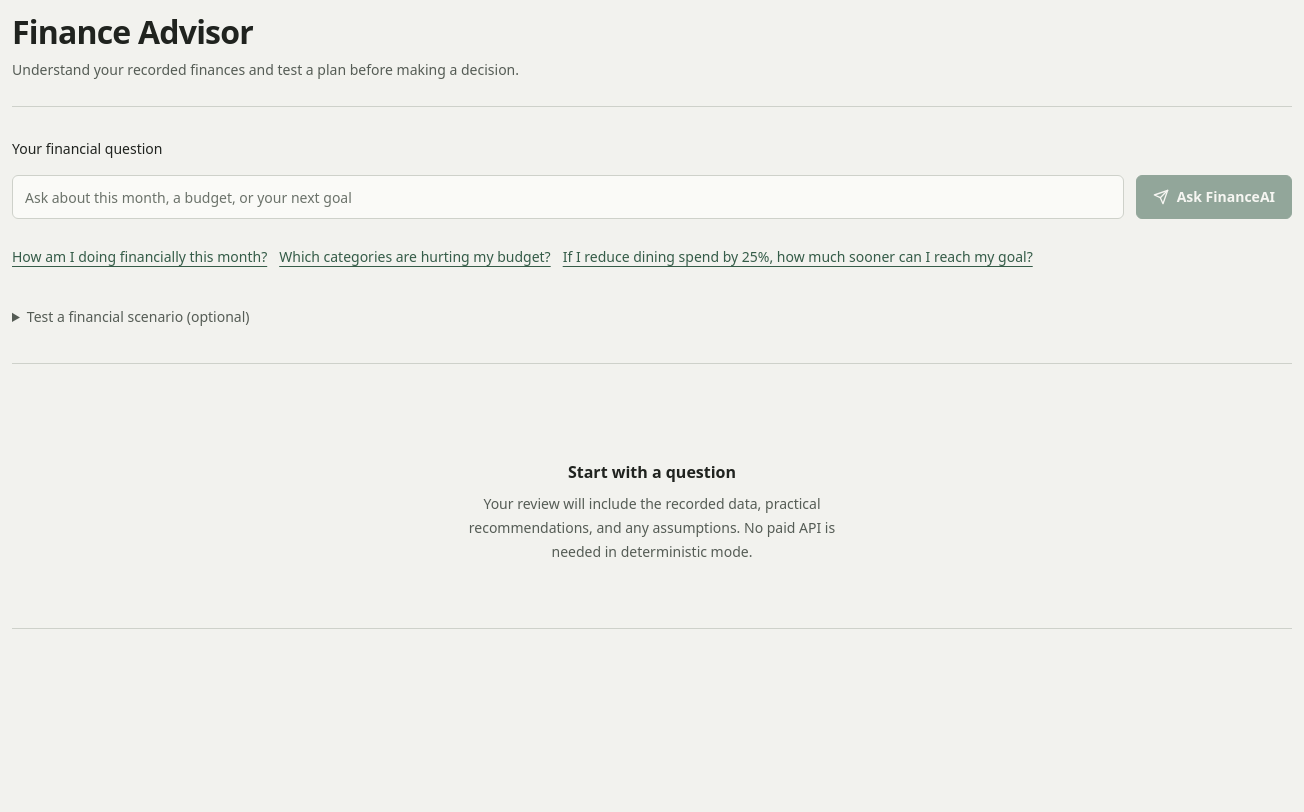
Test case: Finance Advisor workspace › handles errors without rendering sensitive provider error messages
Type "Review my budget" into the field labelled "Your financial question". click: (568, 197)
box: [12, 175, 1124, 219]
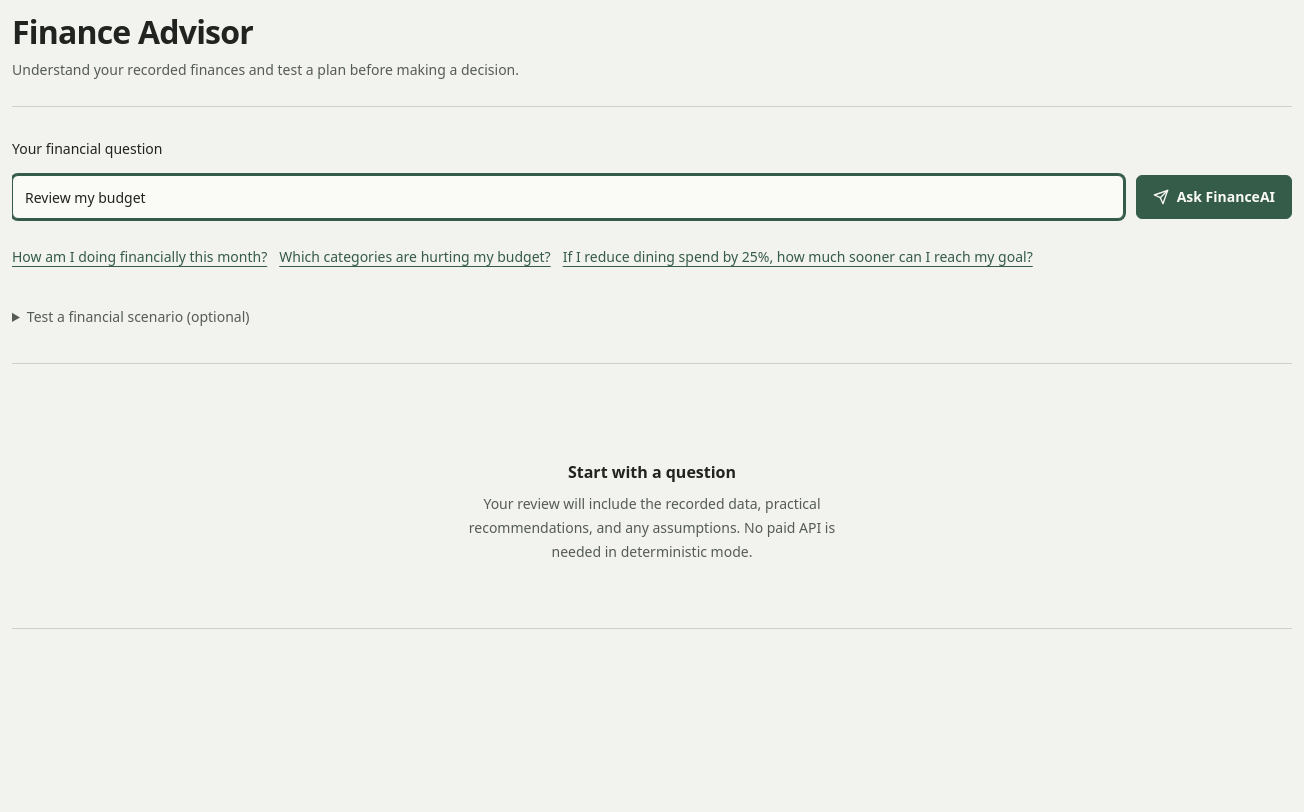
Click the button "Ask FinanceAI". click: (1214, 197)
box: [1136, 175, 1292, 219]
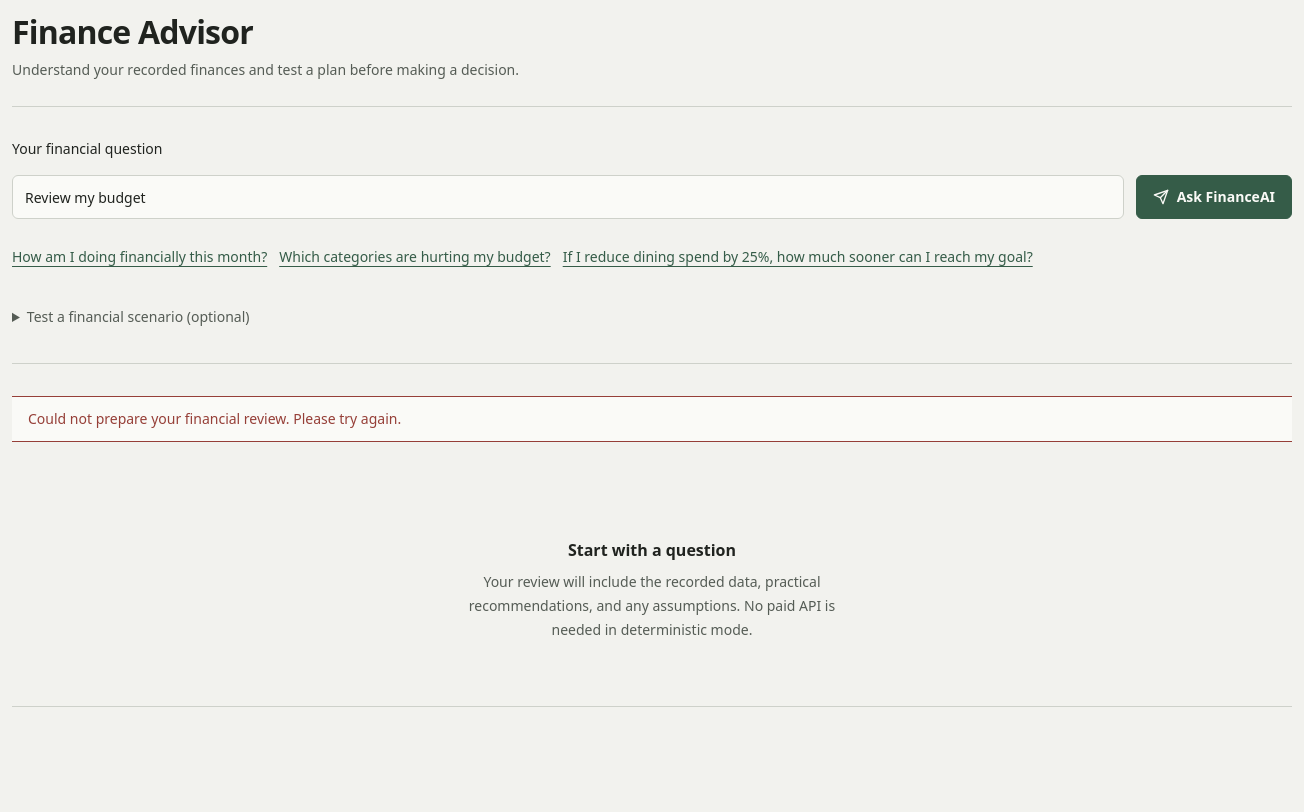
Result: the text "Could not prepare your financial review. Please try again." is shown at [28, 409, 401, 429]
